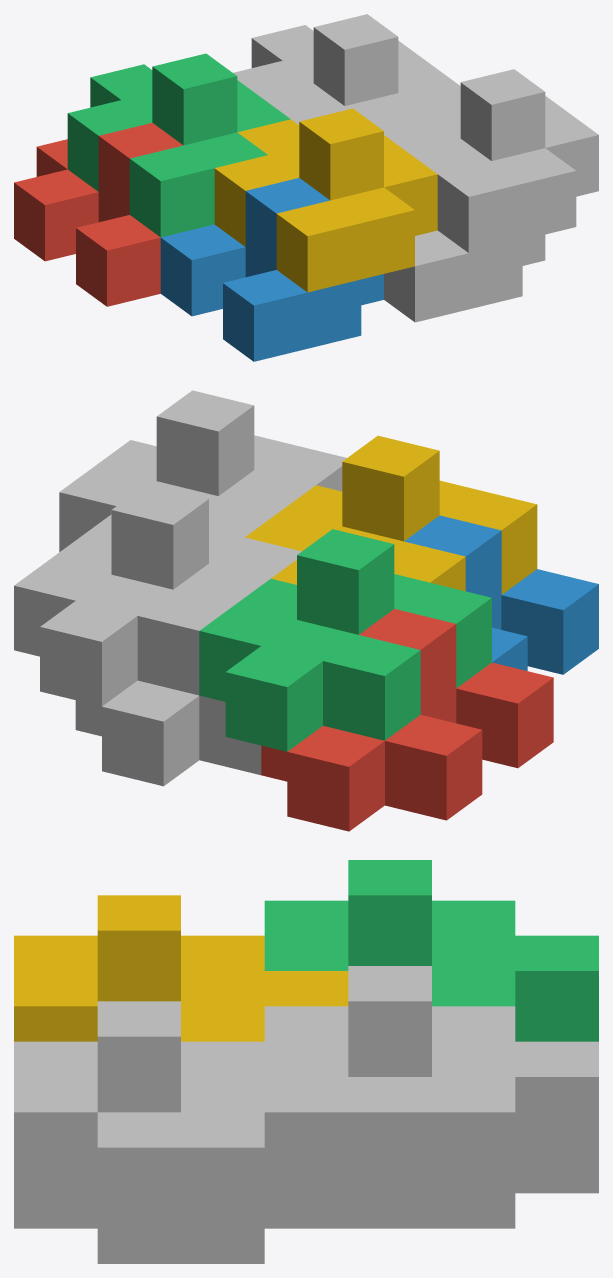
File: tiling.obj
3 views of the same model, one above another, from view 1: azimuth 30°, elevation 25°; view 2: azimuth 150°, elevation 25°; view 3: azimuth 270°, elevation 25° (orthographic). The views are drawn at different scales.
Parts seen in each view (by area): view 1: copy_1_domain_4, copy_1_domain_8, copy_1_domain_3, copy_1_domain_2, copy_1_domain_1, copy_1_domain_7, copy_1_domain_6, copy_1_domain_5; view 2: copy_1_domain_3, copy_1_domain_7, copy_1_domain_1, copy_1_domain_4, copy_1_domain_8, copy_1_domain_5, copy_1_domain_2, copy_1_domain_6; view 3: copy_1_domain_8, copy_1_domain_7, copy_1_domain_3, copy_1_domain_4, copy_1_domain_6, copy_1_domain_5.
Part boxes in pixels (bbox=[...]): copy_1_domain_4: bbox=[214, 108, 437, 292]; copy_1_domain_8: bbox=[380, 69, 598, 252]; copy_1_domain_3: bbox=[67, 53, 290, 237]; copy_1_domain_2: bbox=[160, 178, 383, 361]; copy_1_domain_1: bbox=[14, 123, 182, 306]; copy_1_domain_7: bbox=[233, 14, 451, 127]; copy_1_domain_6: bbox=[384, 138, 545, 322]; copy_1_domain_5: bbox=[260, 83, 344, 118]; copy_1_domain_3: bbox=[199, 529, 491, 751]; copy_1_domain_7: bbox=[14, 484, 301, 706]; copy_1_domain_1: bbox=[261, 609, 553, 831]; copy_1_domain_4: bbox=[245, 435, 537, 594]; copy_1_domain_8: bbox=[59, 390, 346, 551]; copy_1_domain_5: bbox=[75, 563, 270, 786]; copy_1_domain_2: bbox=[404, 515, 598, 674]; copy_1_domain_6: bbox=[219, 470, 315, 511]; copy_1_domain_8: bbox=[14, 1001, 348, 1223]; copy_1_domain_7: bbox=[264, 966, 598, 1188]; copy_1_domain_3: bbox=[264, 860, 598, 1041]; copy_1_domain_4: bbox=[14, 895, 348, 1041]; copy_1_domain_6: bbox=[14, 1188, 348, 1263]; copy_1_domain_5: bbox=[348, 1153, 598, 1228].
Size of the model in its own units: 8 by 3 by 7.
